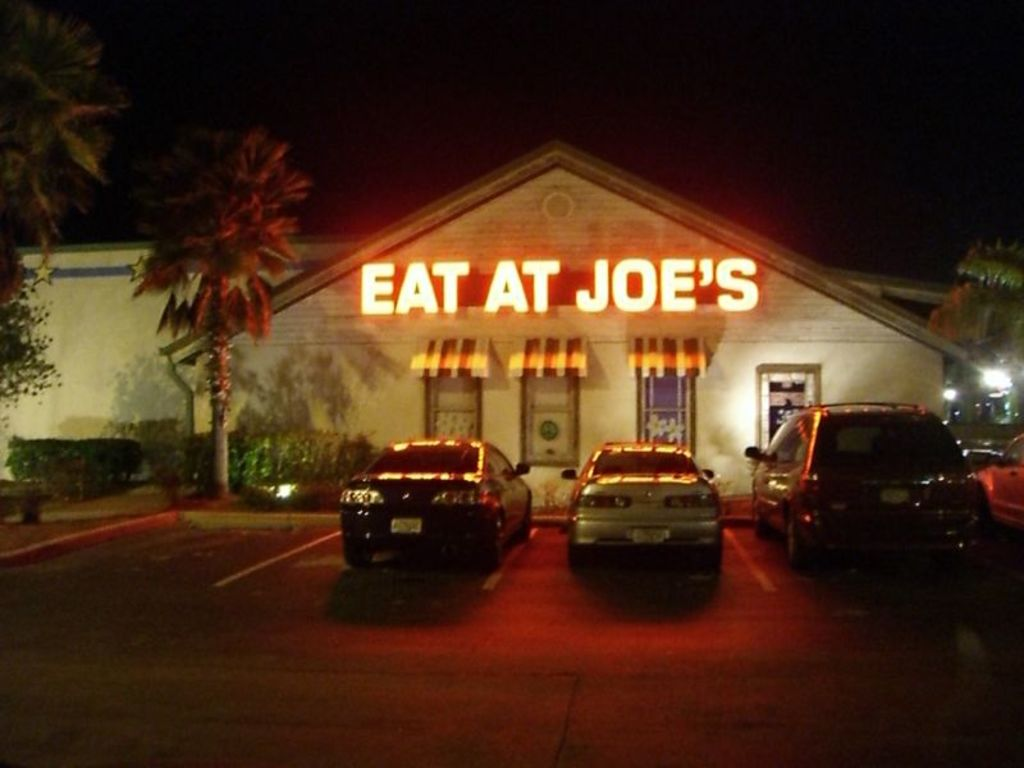Car: (746, 399, 976, 574), (340, 436, 532, 570), (560, 439, 719, 574), (967, 436, 1022, 540)
